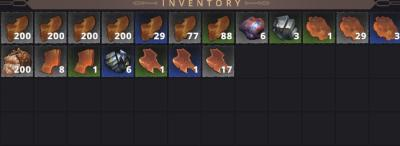durable hide: (135, 11, 167, 44), (168, 12, 201, 44), (202, 11, 234, 44), (34, 11, 66, 43), (68, 11, 100, 43), (101, 11, 133, 43), (1, 12, 33, 43)
iron ore: (235, 11, 267, 44)
silver ore: (269, 11, 301, 42)
soft hide: (302, 11, 335, 44), (336, 11, 368, 44), (369, 11, 400, 44)
strong hide: (34, 44, 66, 78), (68, 44, 100, 78)
tin ore: (102, 44, 133, 77)
tough hide: (168, 45, 201, 79), (202, 45, 234, 79), (135, 45, 167, 77)
